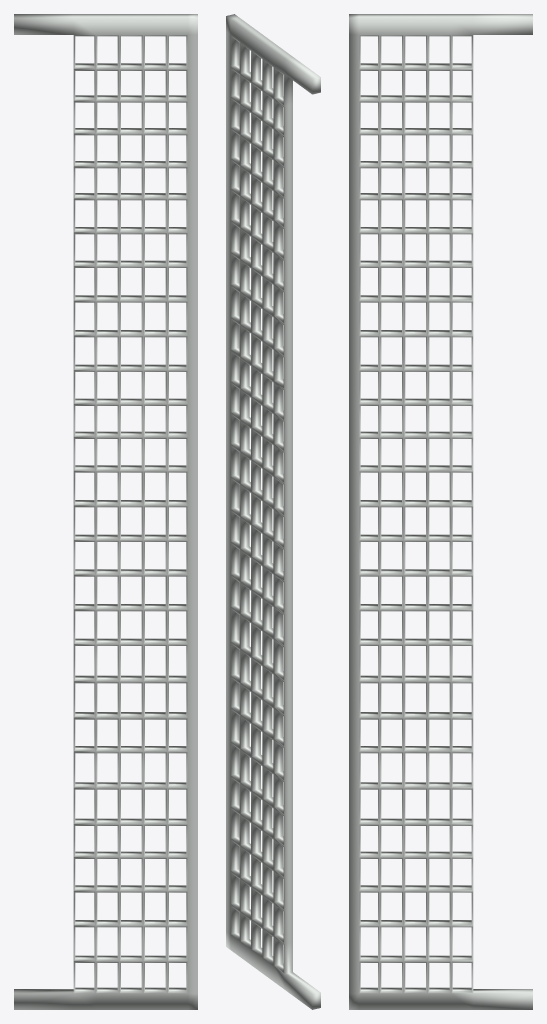
Rendered from net.obj.
3 views of the same model, side by side, from view 1: azimuth 90°, elevation 25°; view 2: azimuth 210°, elevation 25°; view 3: azimuth 270°, elevation 25° (orthographic). The views are drawn at different scales.
Size of the model in its own units: 0.0149 by 1.57 by 0.2637.
1 material, 1 textured.
